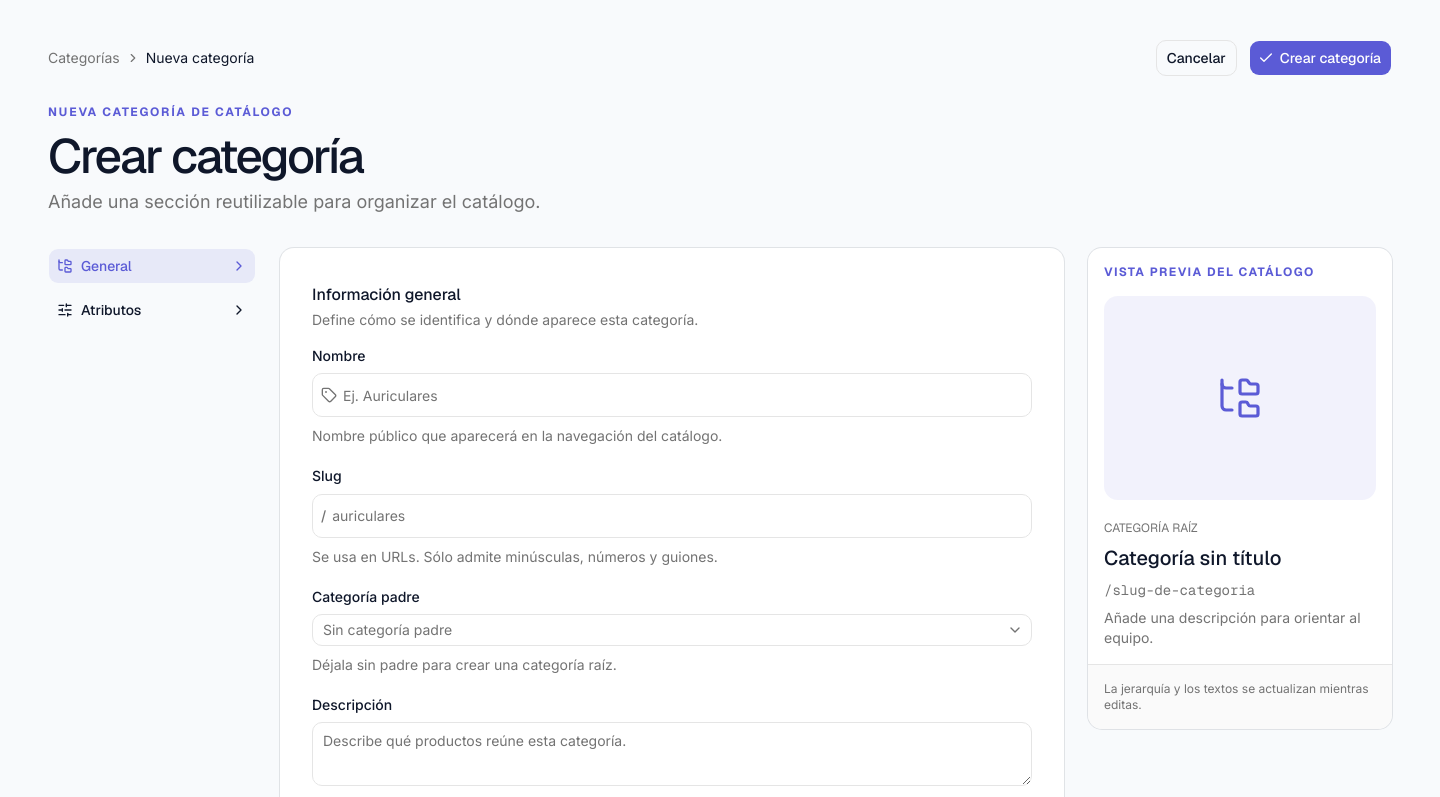
Test: CategoryForm › shows server field and form errors
Type "Audio" into the field labelled "Nombre" at (684, 395), box [337,379,1031,411]
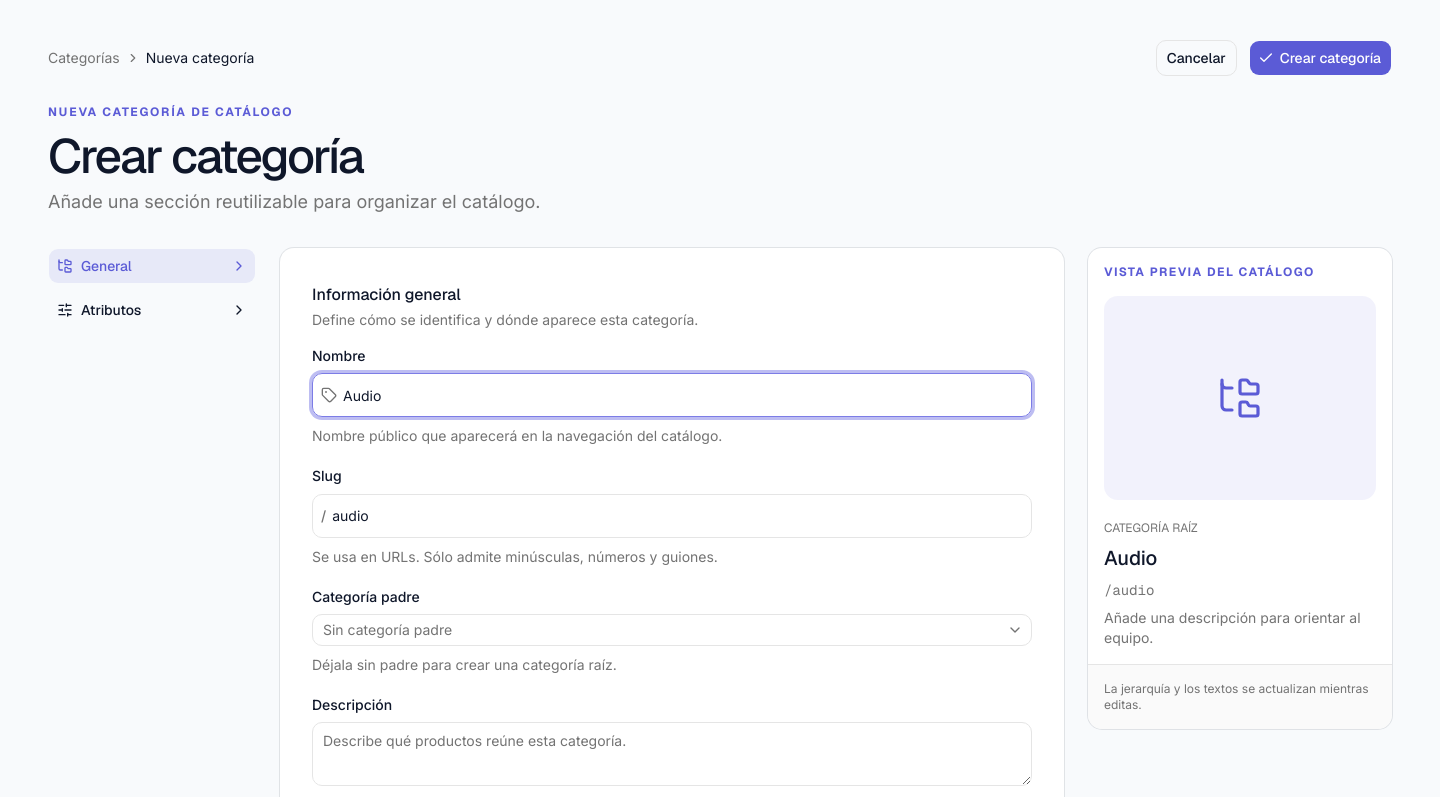
Click the button "Crear categoría" at (1320, 58), box [1249,40,1392,76]
(page scrolled)
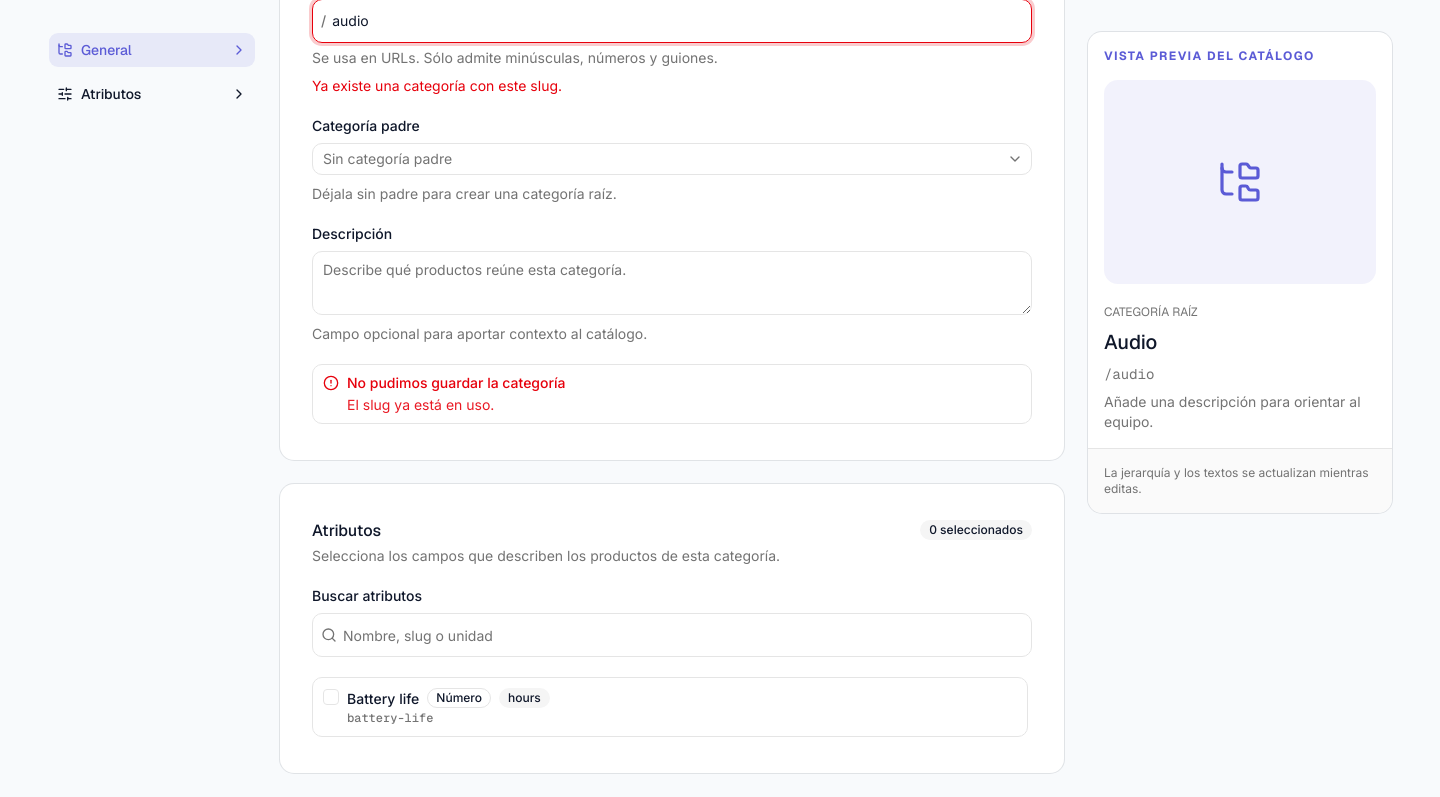
Check: the text "Ya existe una categoría con este slug." is shown, box [312,76,562,94]
Check: the text "El slug ya está en uso." is shown, box [347,396,494,413]
